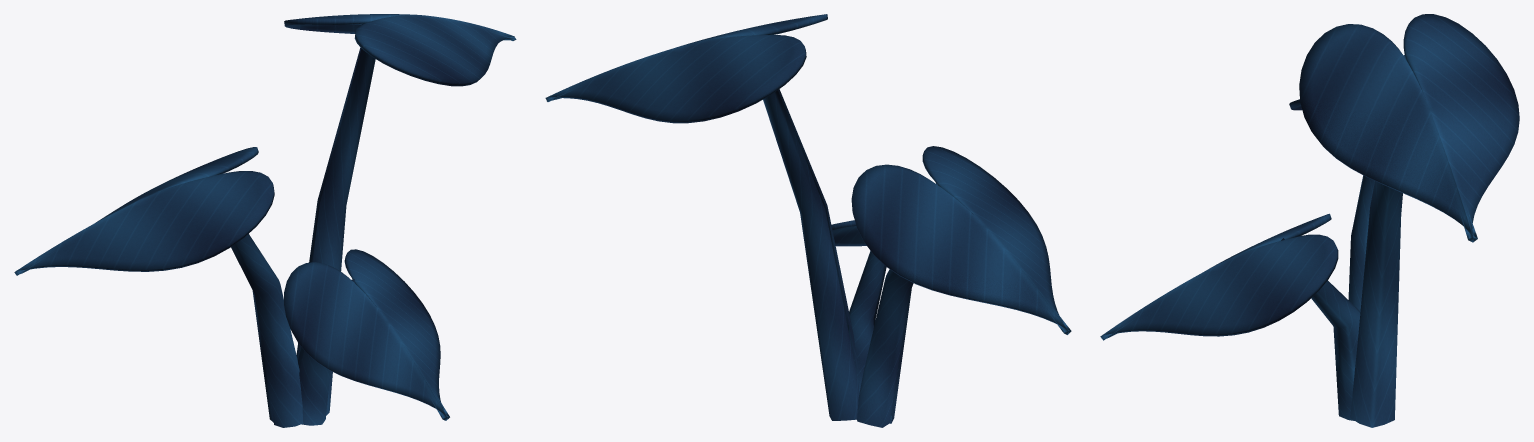
File: blue-heart-small.glb
The picture shows the model from 3 angles, left to right: view 1: azimuth 30°, elevation 25°; view 2: azimuth 150°, elevation 25°; view 3: azimuth 270°, elevation 25°; orthographic projection. The views are drawn at different scales.
Parts seen in each view (by area): view 1: blue-heart-small_ground-blue; view 2: blue-heart-small_ground-blue; view 3: blue-heart-small_ground-blue.
Boxes of the visible parts, left/top/right/bottom form: blue-heart-small_ground-blue: left=14, top=14, right=516, bottom=427; blue-heart-small_ground-blue: left=545, top=14, right=1071, bottom=427; blue-heart-small_ground-blue: left=1100, top=14, right=1519, bottom=427.
Bounding box in the file's own units: 1.02 × 0.7216 × 0.6597.
1 material, 1 textured.
